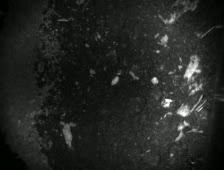corn: (108, 75, 122, 86)
